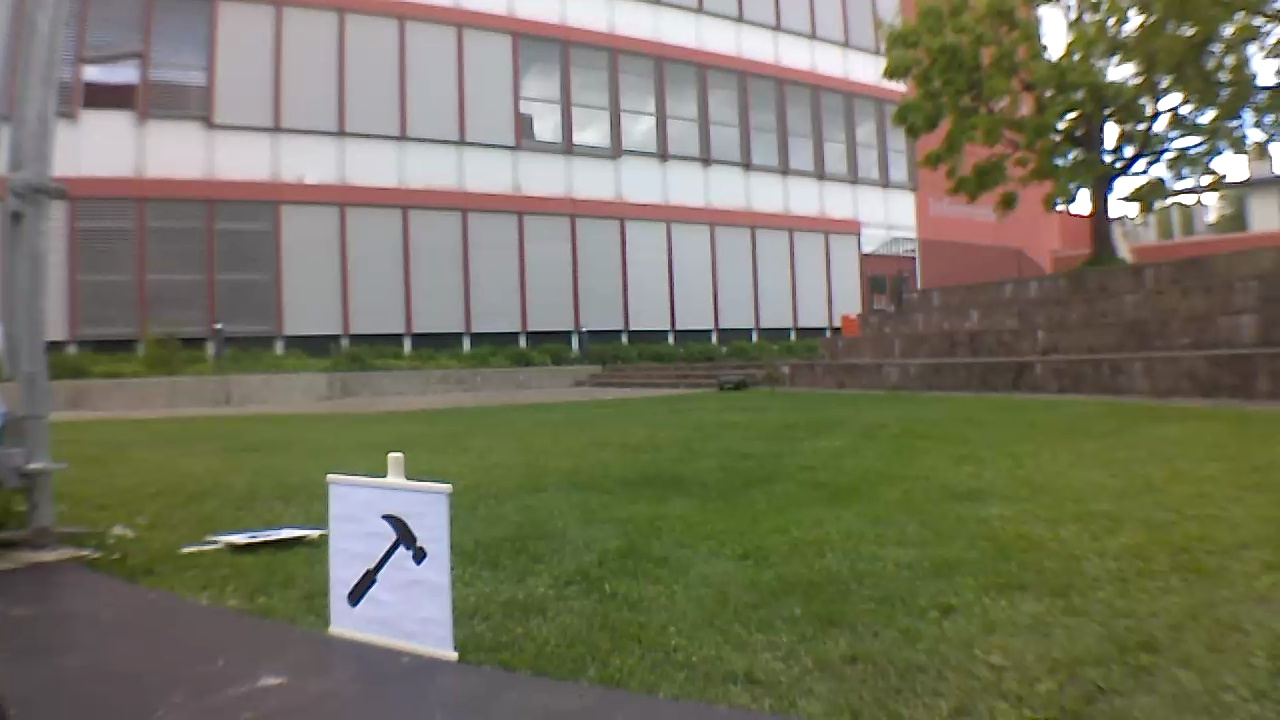hammer: (334, 508, 434, 620)
